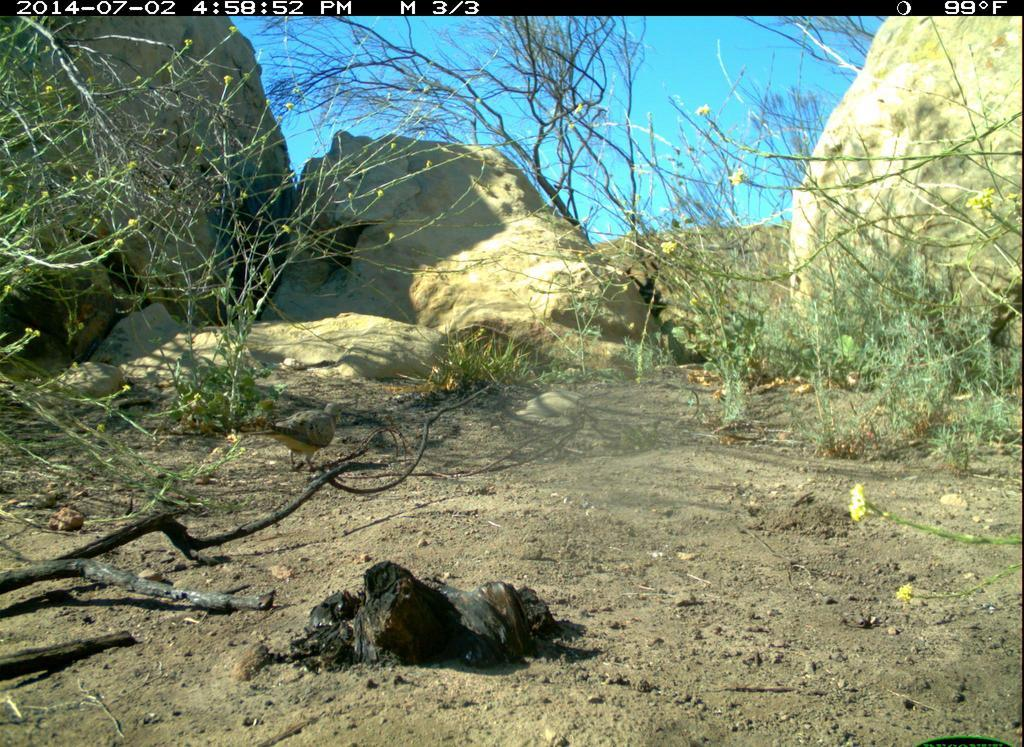bird: (239, 387, 360, 482)
